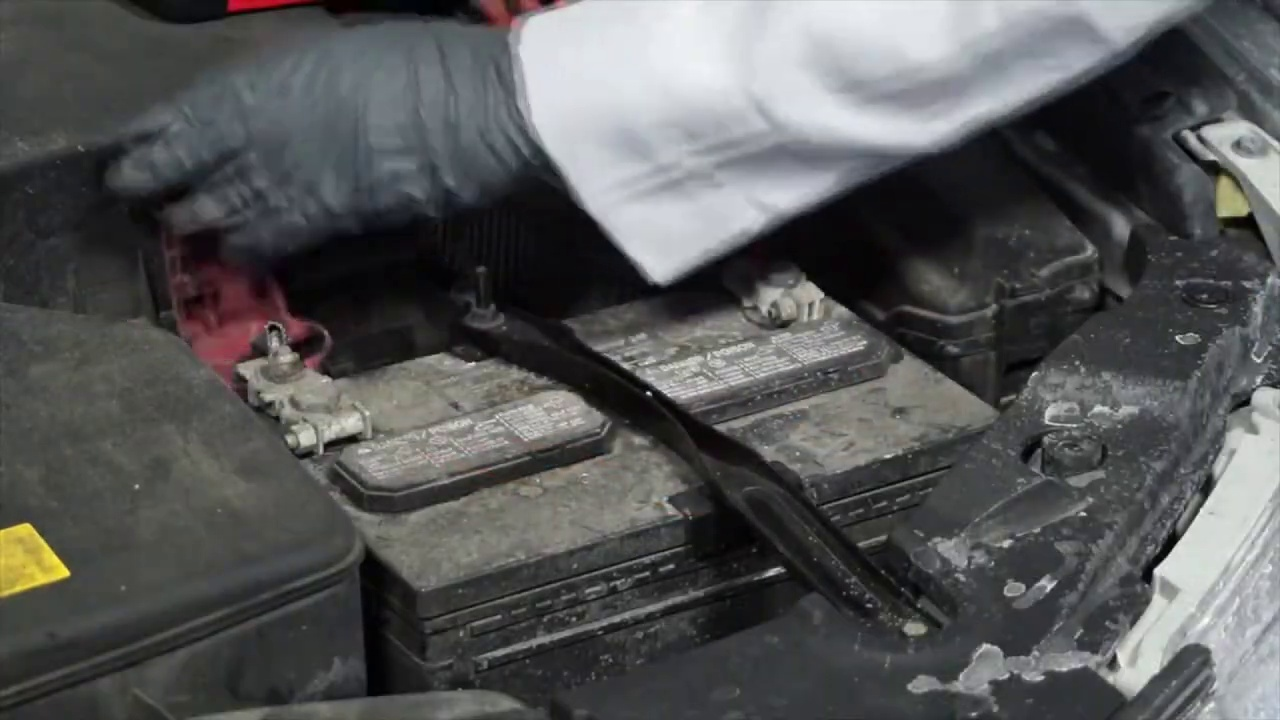battery: (238, 253, 1006, 577)
neg_connected: (702, 237, 837, 344)
pos_connected: (169, 208, 400, 454)
